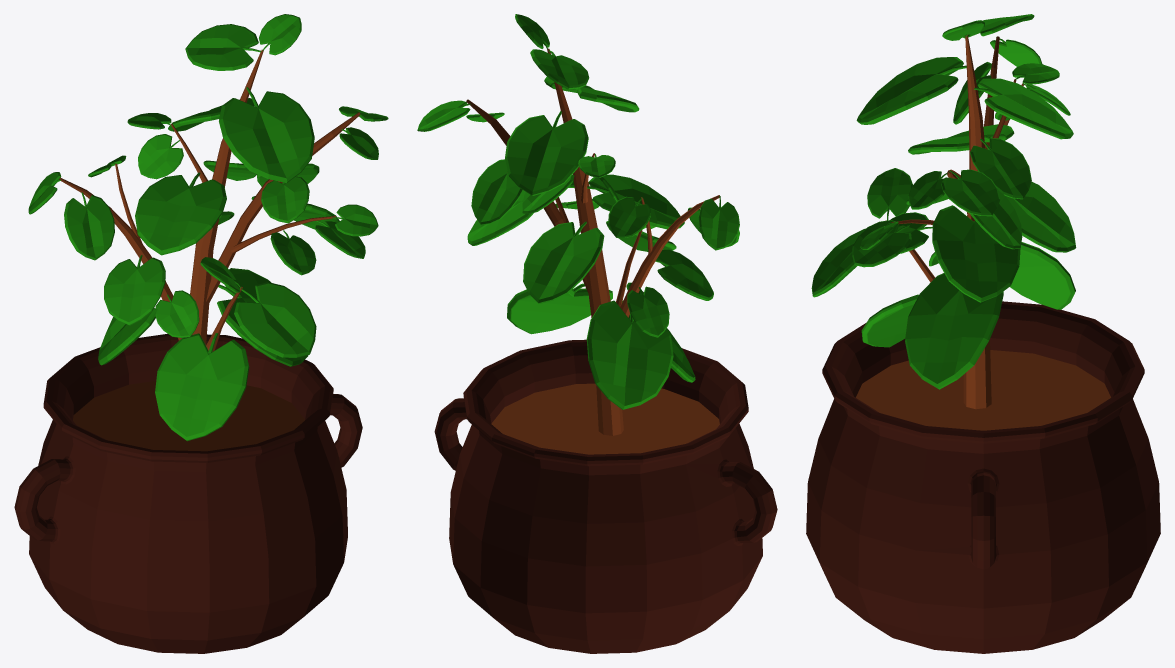
The model's file is Plant Pot 3.fbx.
The picture shows the model from 3 angles, left to right: view 1: azimuth 30°, elevation 25°; view 2: azimuth 150°, elevation 25°; view 3: azimuth 270°, elevation 25°; orthographic projection. The views are drawn at different scales.
Parts seen in each view (by area): view 1: Node 0; view 2: Node 0; view 3: Node 0.
Part boxes in pixels (bbox=[...]): Node 0: bbox=[14, 14, 388, 653]; Node 0: bbox=[417, 14, 777, 653]; Node 0: bbox=[806, 14, 1160, 653].
Size of the model in its own units: 0.4824 by 0.9589 by 0.6312.
